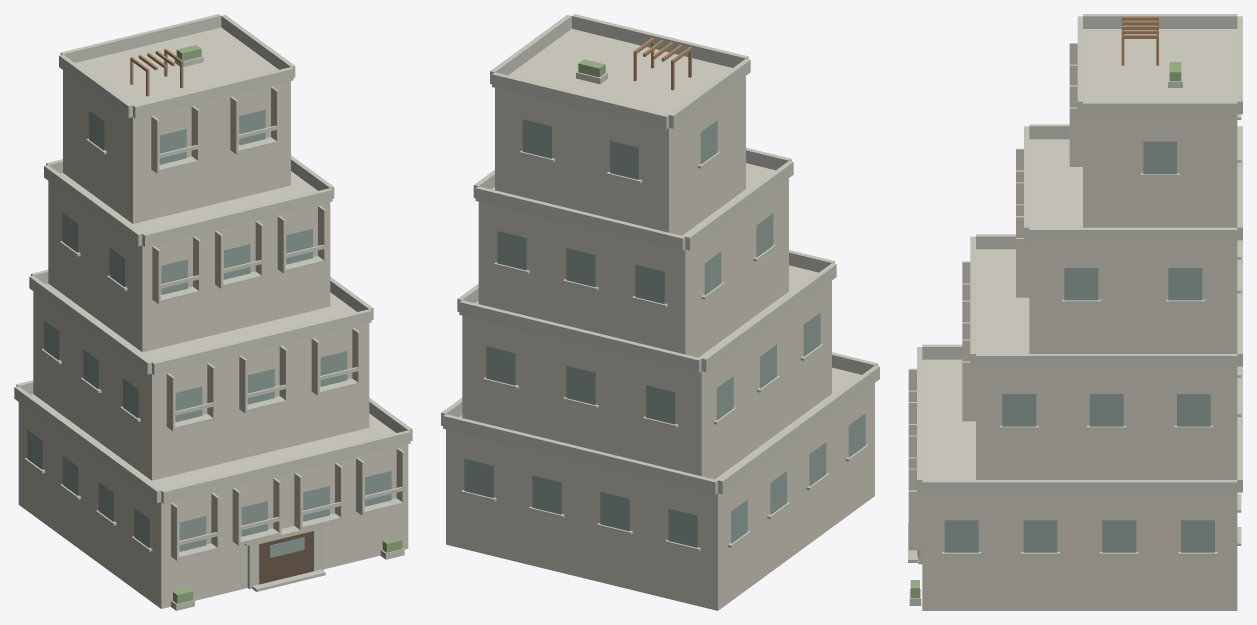
Rendered from residential_2x2_terraces.glb.
3 views of the same model, side by side, from view 1: azimuth 30°, elevation 25°; view 2: azimuth 150°, elevation 25°; view 3: azimuth 270°, elevation 25° (orthographic). The views are drawn at different scales.
Visible parts, largest first — view 1: residential_2x2_terraces_0; view 2: residential_2x2_terraces_0; view 3: residential_2x2_terraces_0.
Part boxes in pixels (left/top/right/bottom): residential_2x2_terraces_0: left=14, top=14, right=412, bottom=610; residential_2x2_terraces_0: left=441, top=14, right=879, bottom=610; residential_2x2_terraces_0: left=908, top=14, right=1242, bottom=610.
Size of the model in its own units: 15 by 25.5 by 15.4.
